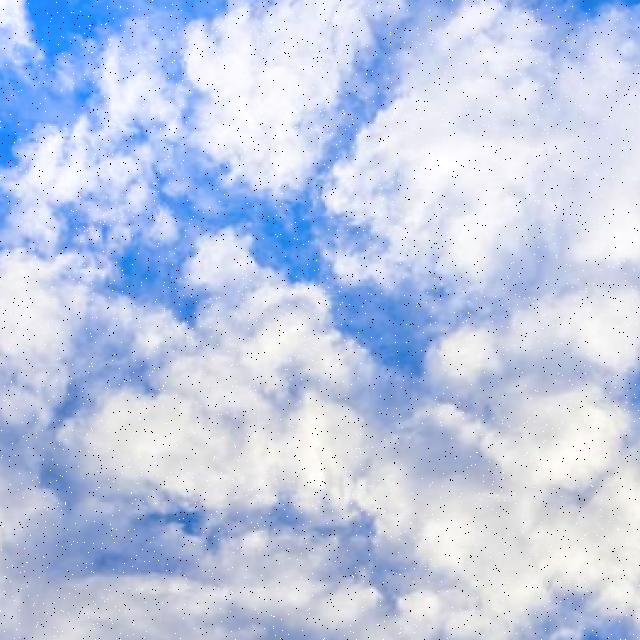As: (1, 54, 640, 542)
